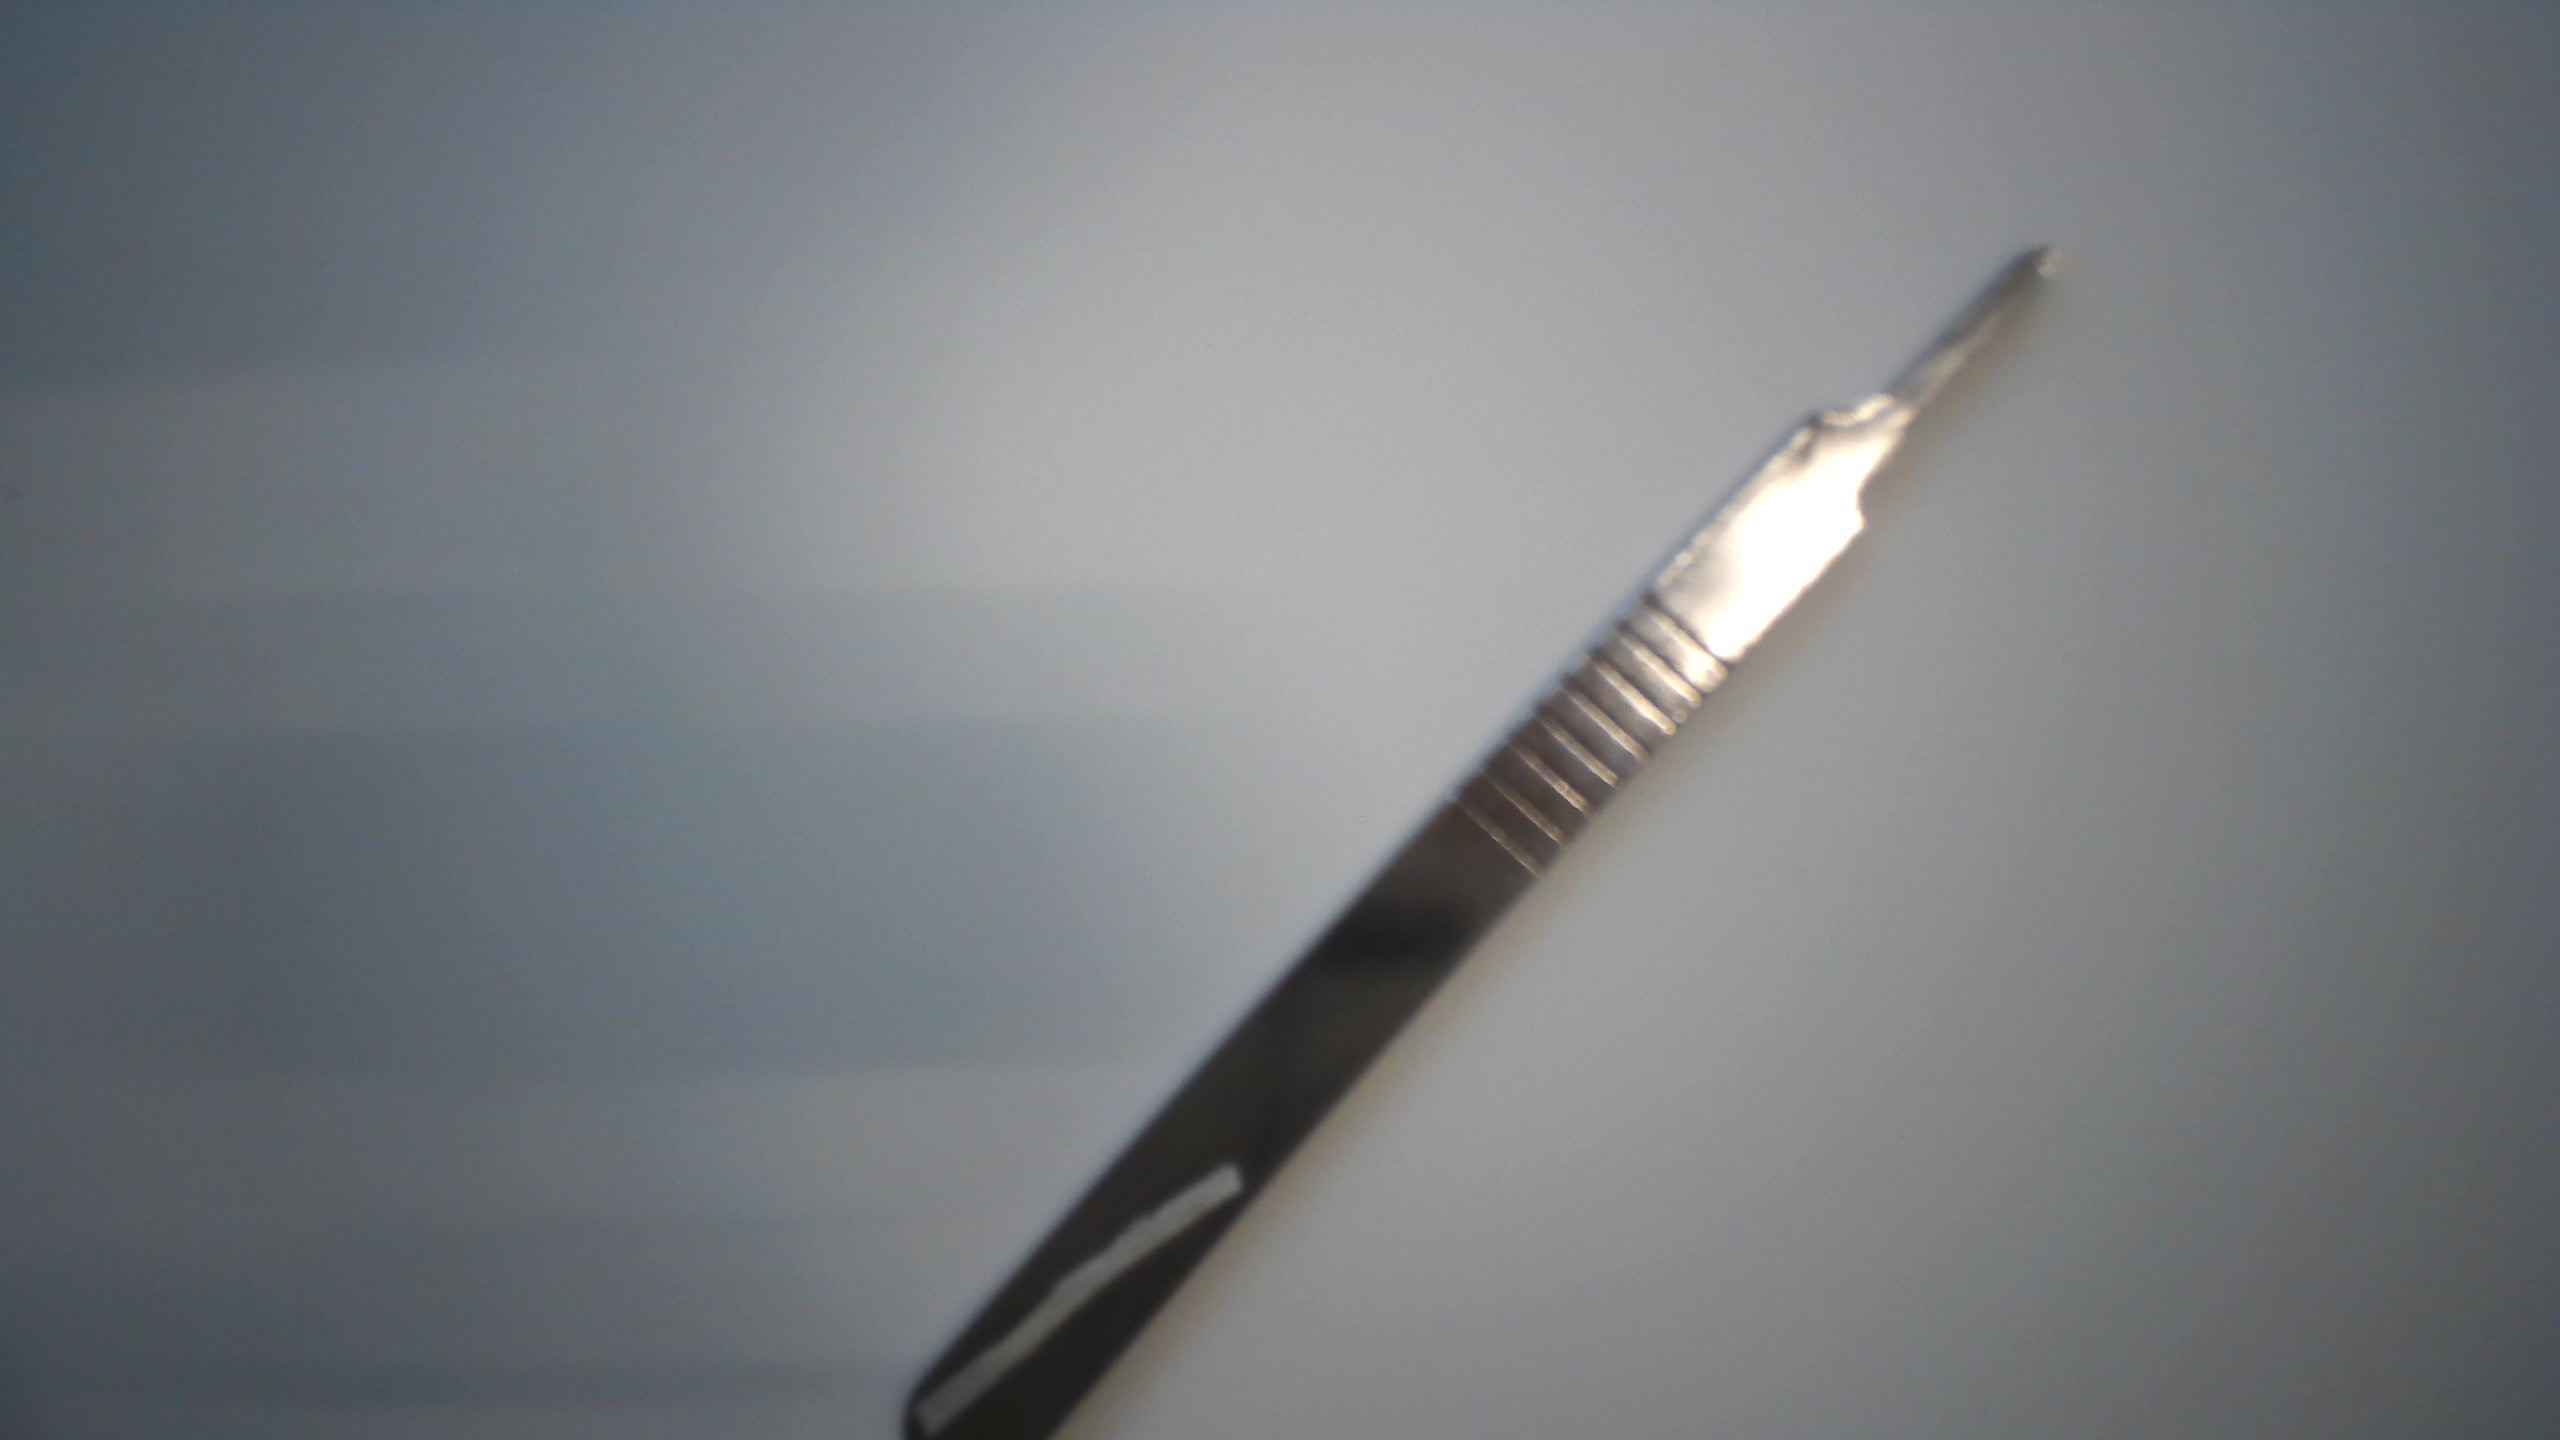Scratches: (897, 1153, 1248, 1435)
